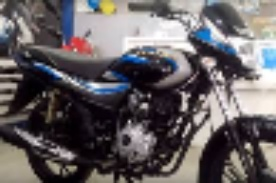Vehicle: (0, 3, 276, 183)
